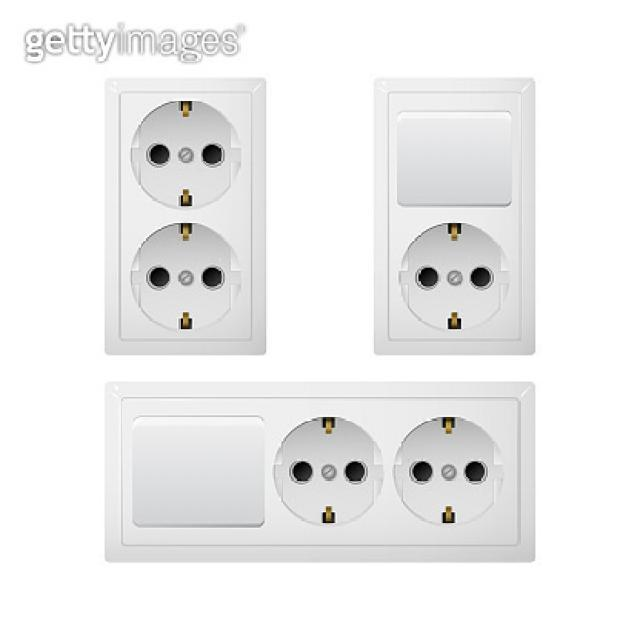typeb: (88, 371, 557, 572), (350, 69, 552, 362), (89, 71, 281, 362)
